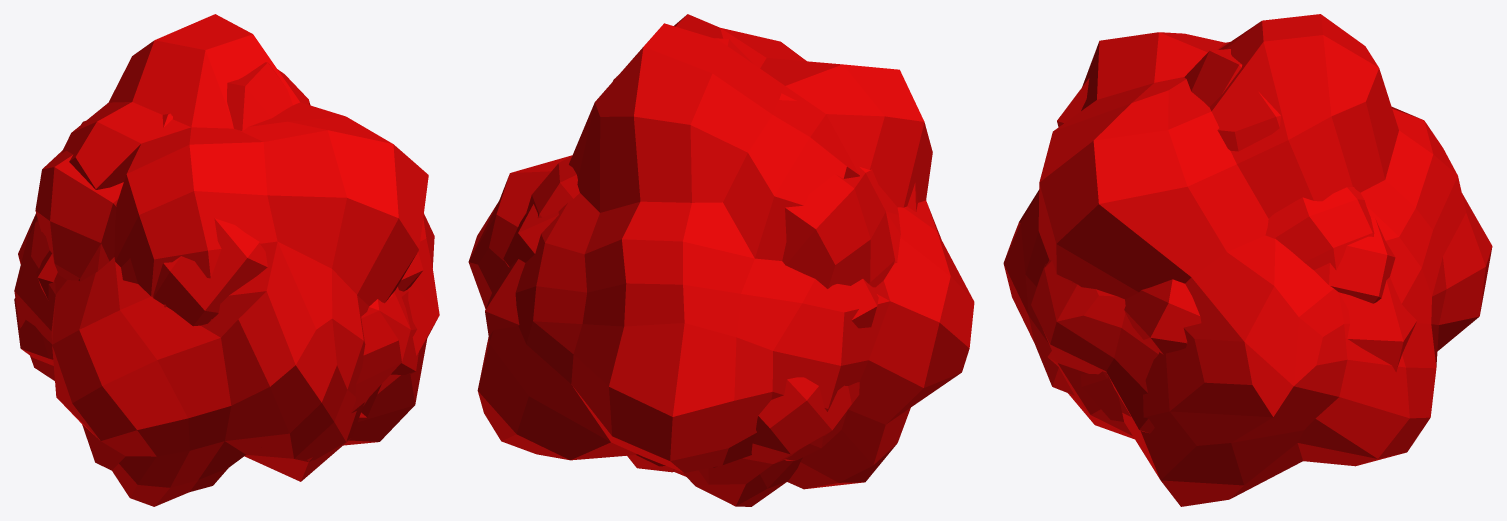
File: cn2-x1_fx_modle_0084.fbx
3 renders of one model, left to right at view 1: azimuth 30°, elevation 25°; view 2: azimuth 150°, elevation 25°; view 3: azimuth 270°, elevation 25°, orthographic. The views are drawn at different scales.
Visible parts, largest first — view 1: baozha2.002; view 2: baozha2.002; view 3: baozha2.002.
Part boxes in pixels (bbox=[...]): baozha2.002: bbox=[14, 14, 439, 506]; baozha2.002: bbox=[468, 14, 974, 506]; baozha2.002: bbox=[1003, 14, 1492, 506].
Bounding box in the file's own units: 376 × 368 × 374.
